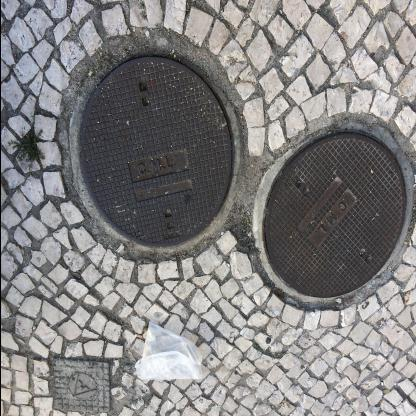plastik: (134, 321, 203, 381)
